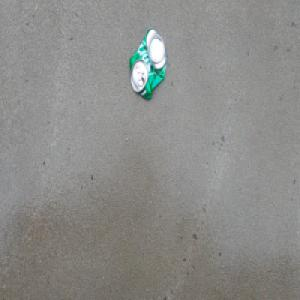SodaCan: (128, 26, 167, 101)
